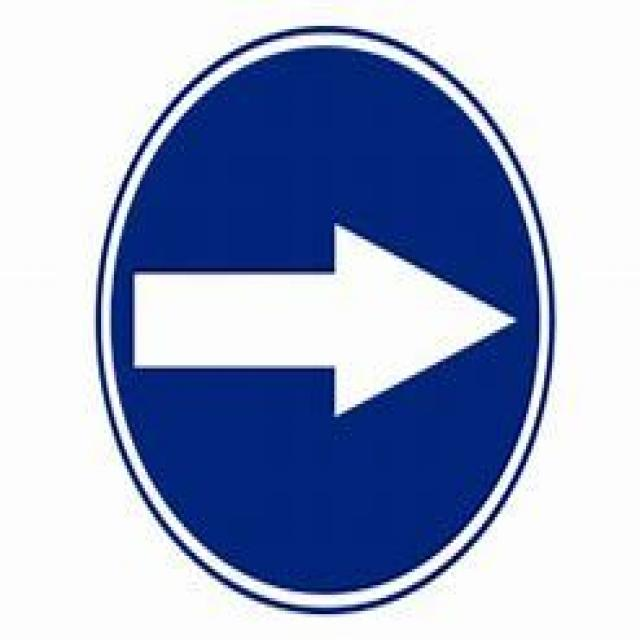COMPULSARY_TURN_RIGHT: (93, 19, 557, 611)
